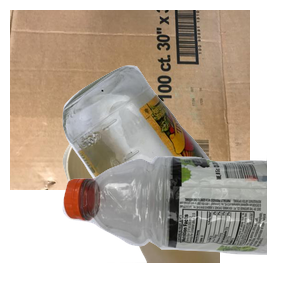cardboard: (10, 10, 250, 190)
glass: (60, 63, 300, 243)
plastic: (60, 152, 300, 300)
trash: (60, 120, 300, 300)
